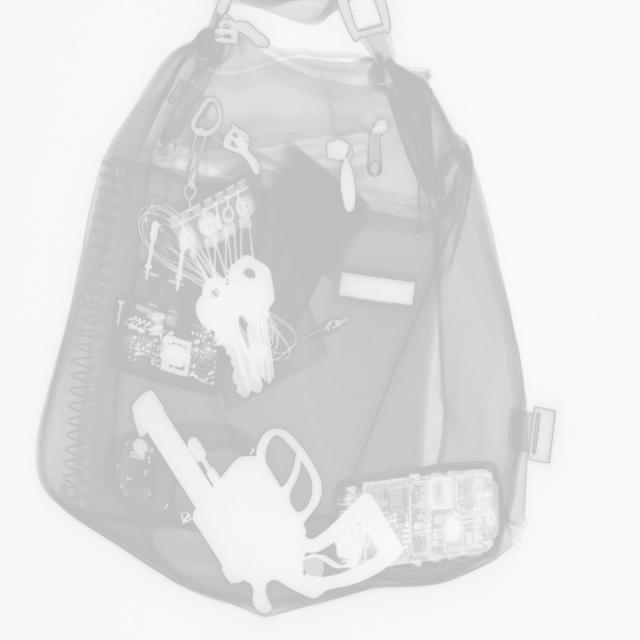pistol: (132, 388, 402, 614)
